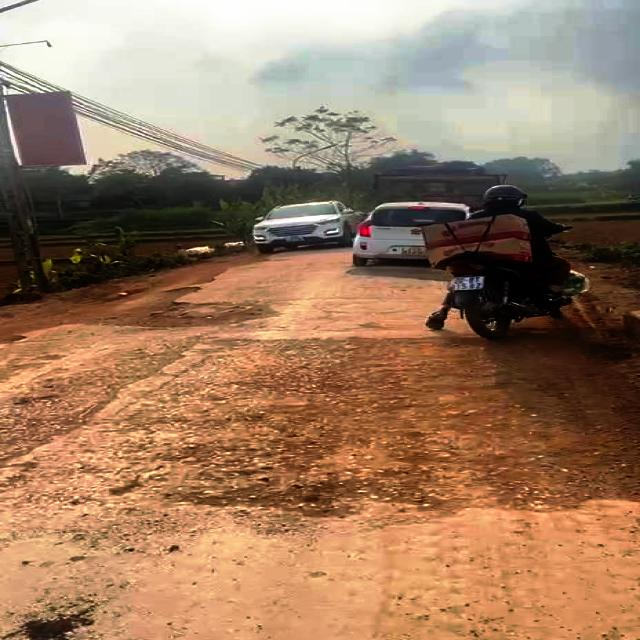pothole: (161, 469, 422, 522), (60, 285, 282, 333)
